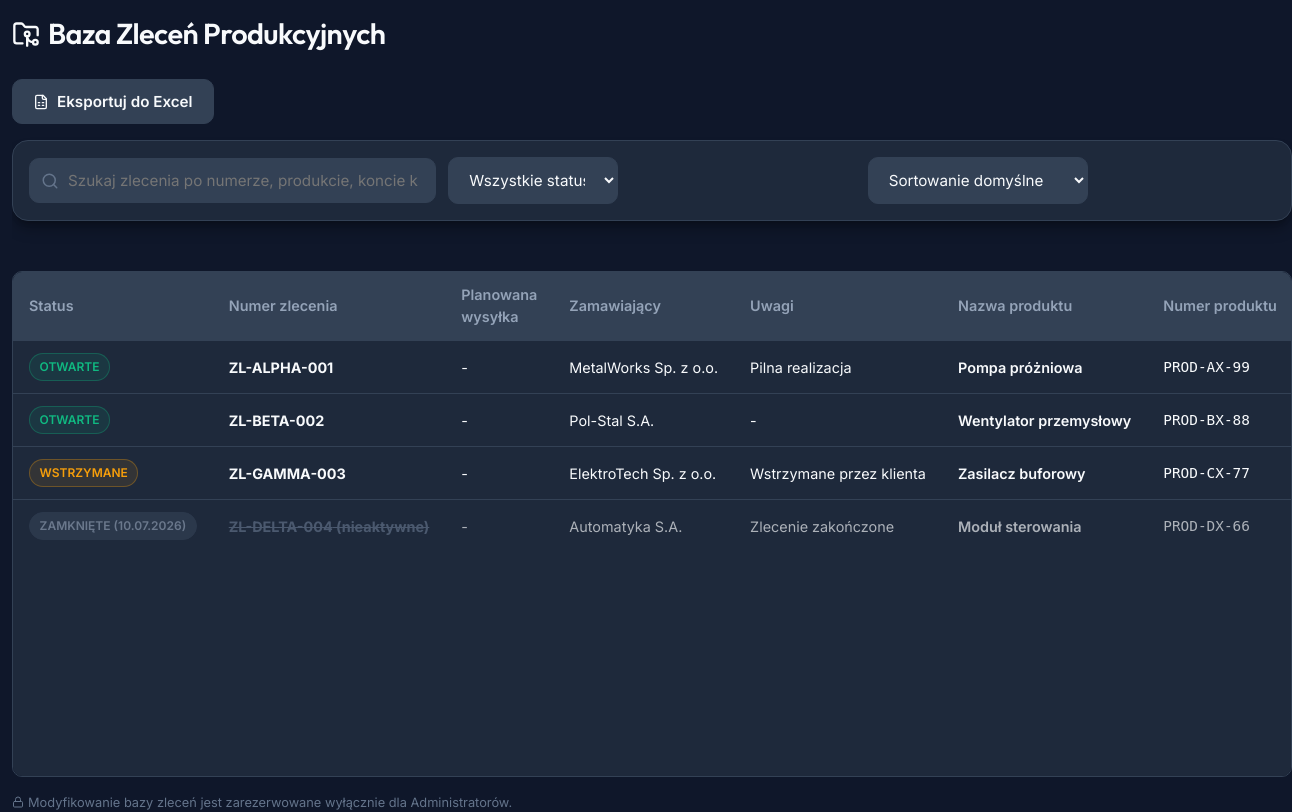
Test: OrdersView — wyszukiwarka i filtry zleceń › renders in read-only mode for leader role, shows identical filter results, and remains read-only after filtering
Check: the text "ZL-ALPHA-001" is shown, box left=213, top=340, right=445, bottom=394
# Zmiana filtra statusu przez Lidera
Select "Wstrzymane" in the dropdown named "Filtr statusu" at (533, 181), box left=448, top=157, right=618, bottom=204
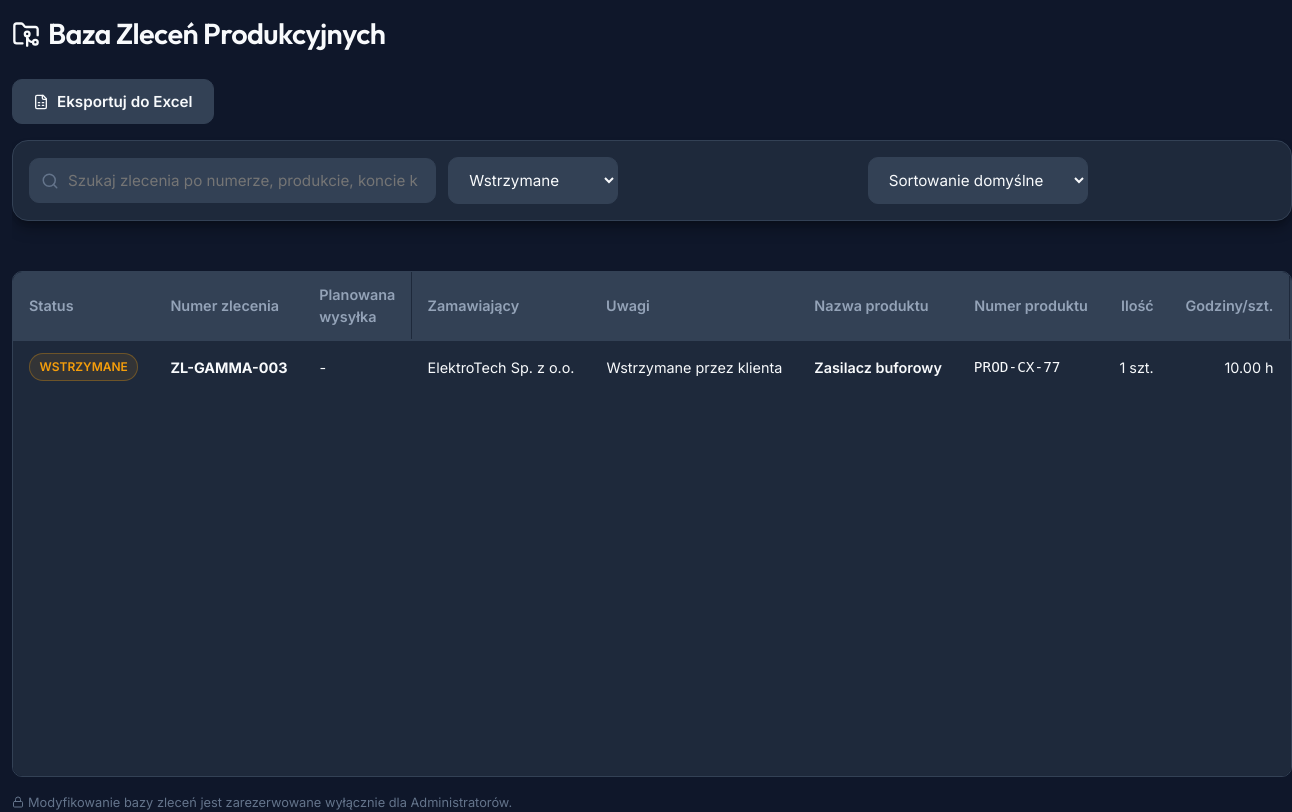
Check: the text "ZL-GAMMA-003" is shown, box left=154, top=340, right=304, bottom=393
Check: the text "ZL-ALPHA-001" is gone
